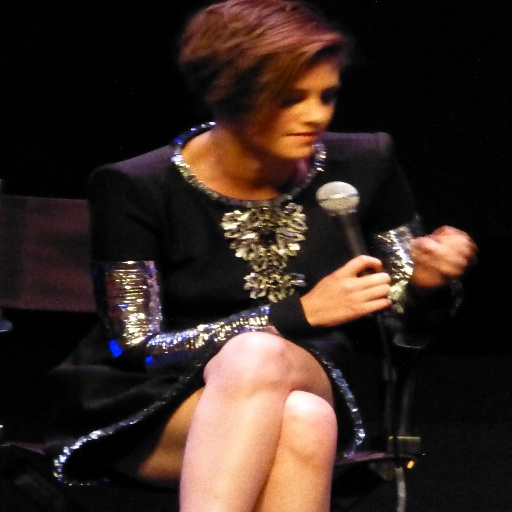hand: (302, 251, 406, 330), (408, 224, 475, 288)
